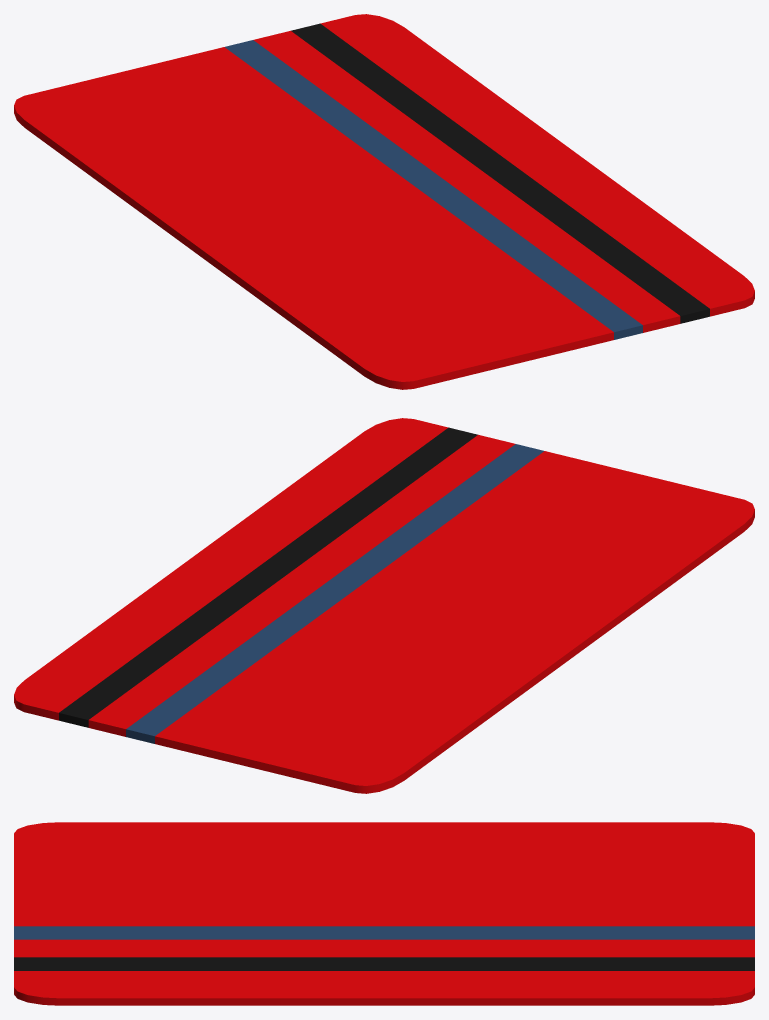
The model's file is keycard_kırmızı.fbx.
3 renders of one model, top to bottom at view 1: azimuth 30°, elevation 25°; view 2: azimuth 150°, elevation 25°; view 3: azimuth 270°, elevation 25°, orthographic. The views are drawn at different scales.
Parts seen in each view (by area): view 1: Plane; view 2: Plane; view 3: Plane.
Part boxes in pixels (<box>): Plane: <box>14,14,754,389</box>; Plane: <box>14,418,754,793</box>; Plane: <box>14,822,754,1005</box>.
Bounding box in the file's own units: 46.98 × 0.923 × 83.49.
